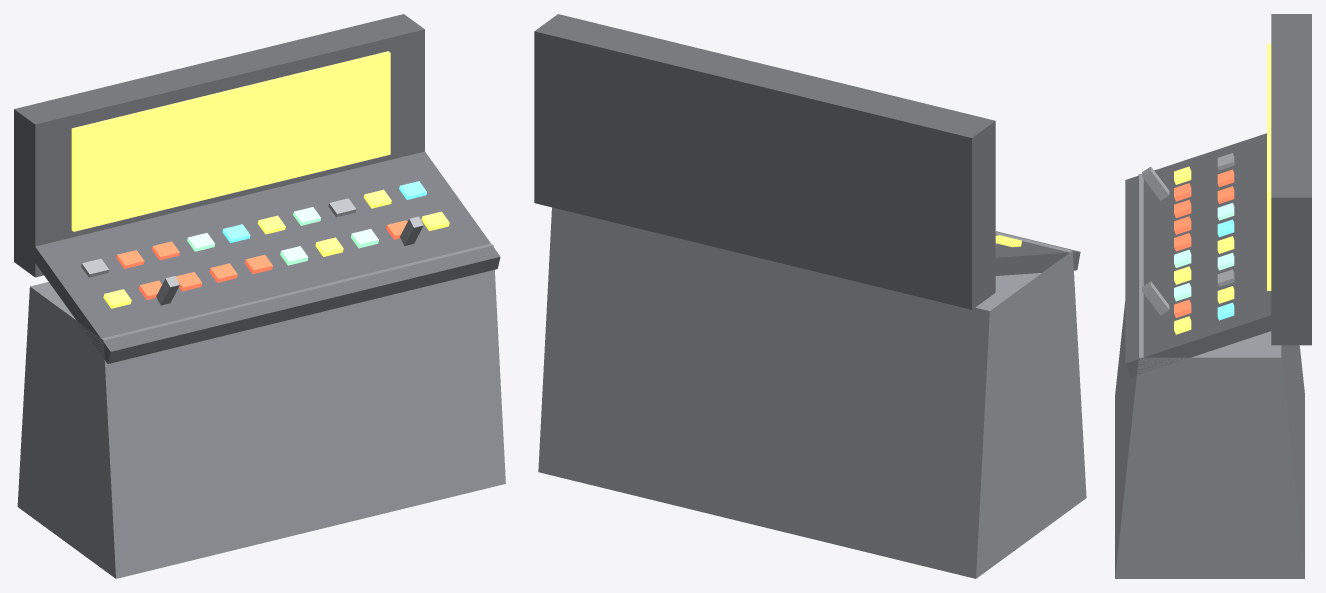
File: SM_Eng_Control_Panel.glb
3 views of the same model, side by side, from view 1: azimuth 30°, elevation 25°; view 2: azimuth 150°, elevation 25°; view 3: azimuth 270°, elevation 25° (orthographic). The views are drawn at different scales.
Visible parts, largest first — view 1: SM_Eng_Control_Panel; view 2: SM_Eng_Control_Panel; view 3: SM_Eng_Control_Panel.
Part boxes in pixels (x1,y1,x2,y2): SM_Eng_Control_Panel: (14,14,505,578); SM_Eng_Control_Panel: (534,14,1086,578); SM_Eng_Control_Panel: (1115,14,1311,578).
Bounding box in the file's own units: 1.6 × 1.55 × 0.725.
